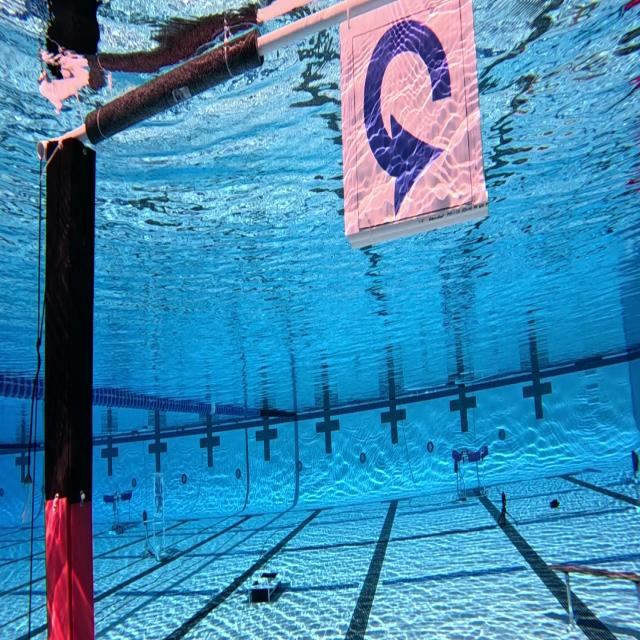blue_side: (338, 0, 490, 252)
